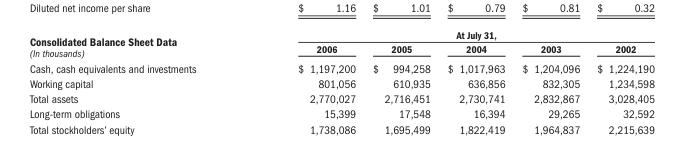table: (28, 28, 653, 135)
table column: (28, 28, 246, 135), (246, 28, 363, 135), (363, 28, 438, 135), (438, 28, 513, 135), (513, 28, 587, 135), (587, 28, 653, 135)
table column header: (28, 28, 653, 59)
table row: (28, 41, 653, 59), (28, 59, 653, 75), (28, 75, 653, 91), (28, 91, 653, 106), (28, 106, 653, 121), (28, 121, 653, 135), (28, 28, 653, 41)
table spanning cell: (28, 28, 246, 59), (246, 28, 653, 41)
